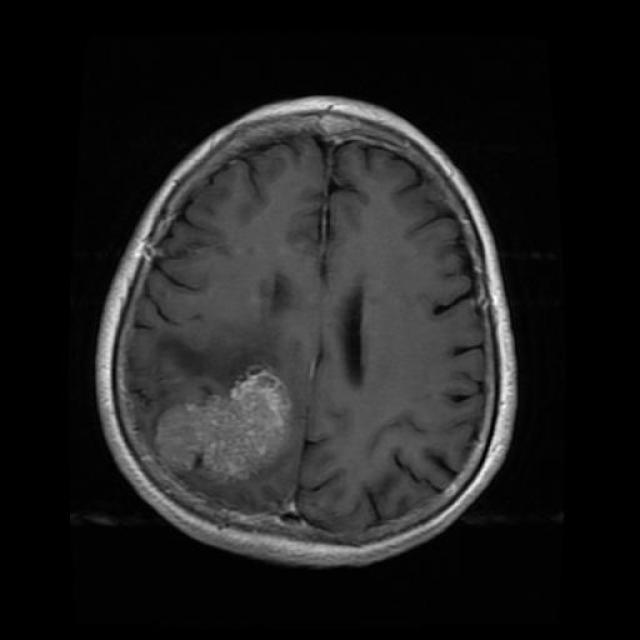meningioma: (156, 366, 295, 481)
